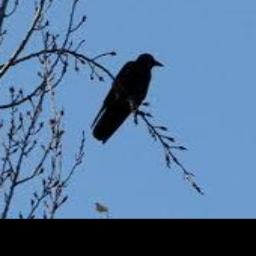Crow: (90, 52, 164, 145)
